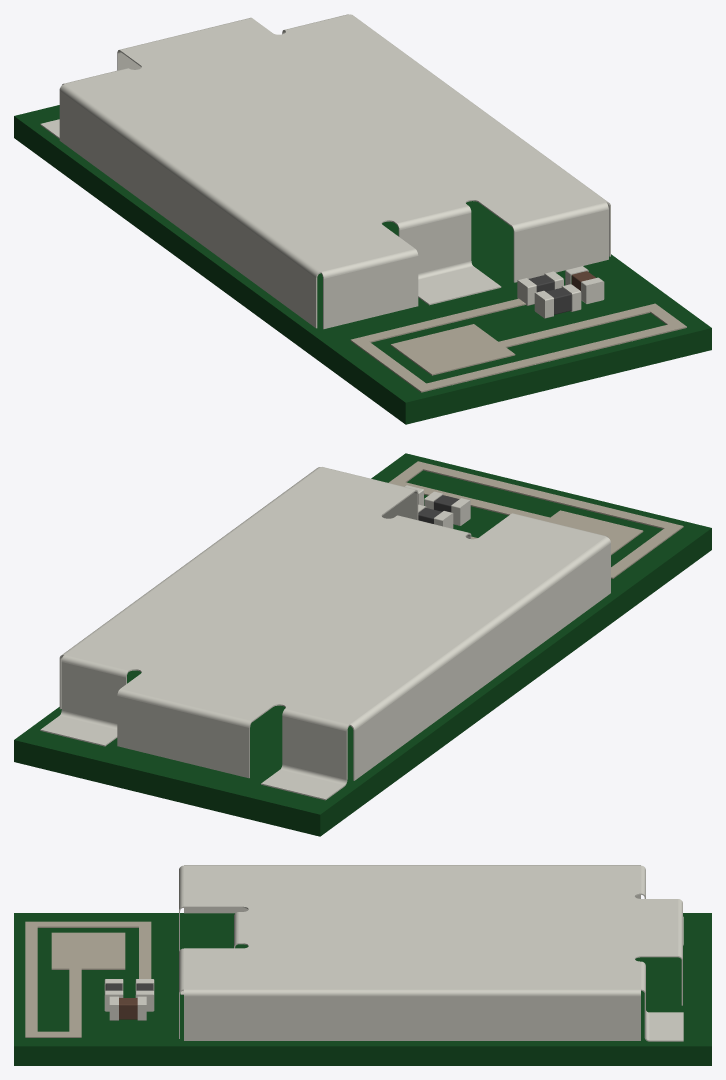
The model's file is kc-taiyo-yuden_eysgjnzwy.glb.
3 renders of one model, top to bottom at view 1: azimuth 30°, elevation 25°; view 2: azimuth 150°, elevation 25°; view 3: azimuth 270°, elevation 25°, orthographic. The views are drawn at different scales.
Visible parts, largest first — view 1: 0.6666666666666666_0.6666666666666666_0.5833333333333334_0.8, 0_0.08333333333333333_0_0, 0.4166666666666667_0.4166666666666667_0.3333333333333333_0, 0.08333333333333333_0.08333333333333333_0.08333333333333333_; view 2: 0.6666666666666666_0.6666666666666666_0.5833333333333334_0.8, 0_0.08333333333333333_0_0, 0.4166666666666667_0.4166666666666667_0.3333333333333333_0; view 3: 0.6666666666666666_0.6666666666666666_0.5833333333333334_0.8, 0_0.08333333333333333_0_0, 0.4166666666666667_0.4166666666666667_0.3333333333333333_0, 0.08333333333333333_0.08333333333333333_0_0.
Part boxes in pixels (<box>): 0.6666666666666666_0.6666666666666666_0.5833333333333334_0.8: <box>40,14,610,329</box>; 0_0.08333333333333333_0_0: <box>14,105,711,424</box>; 0.4166666666666667_0.4166666666666667_0.3333333333333333_0: <box>350,298,686,392</box>; 0.08333333333333333_0.08333333333333333_0.08333333333333333_: <box>528,275,571,314</box>; 0.6666666666666666_0.6666666666666666_0.5833333333333334_0.8: <box>40,467,610,800</box>; 0_0.08333333333333333_0_0: <box>14,453,711,836</box>; 0.4166666666666667_0.4166666666666667_0.3333333333333333_0: <box>388,461,683,578</box>; 0.6666666666666666_0.6666666666666666_0.5833333333333334_0.8: <box>104,865,683,1041</box>; 0_0.08333333333333333_0_0: <box>14,913,711,1065</box>; 0.4166666666666667_0.4166666666666667_0.3333333333333333_0: <box>25,921,151,1037</box>; 0.08333333333333333_0.08333333333333333_0_0: <box>119,998,137,1019</box>.
Size of the model in its own units: 0.51 by 0.13 by 1.13.
